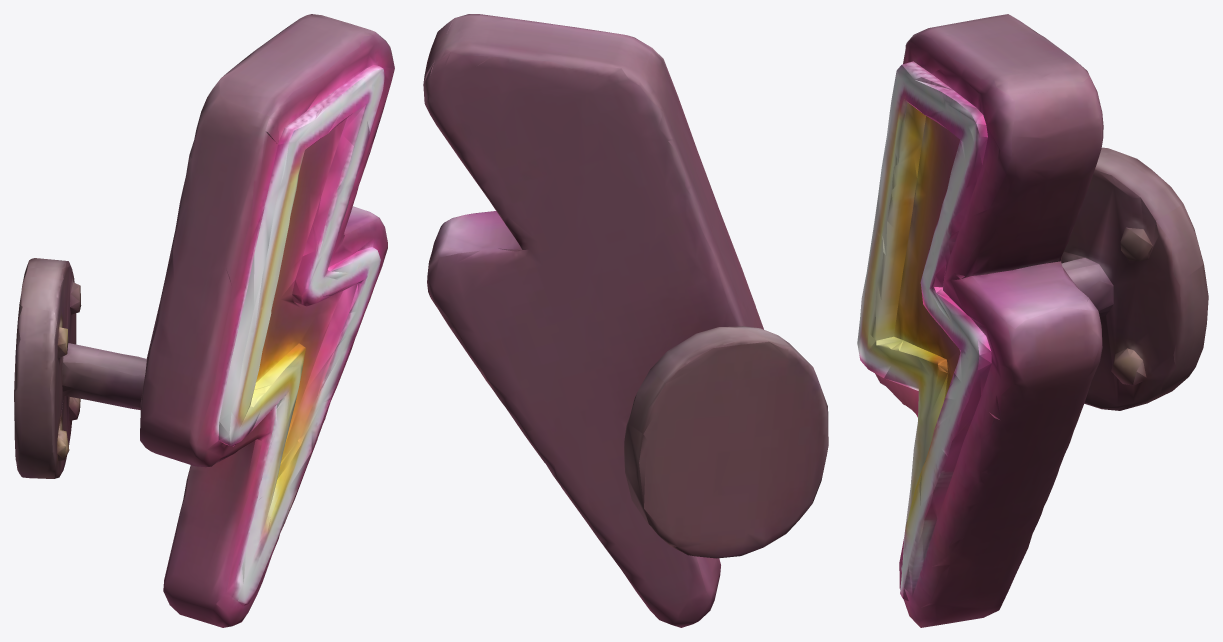
Rendered from wall02.glb.
3 views of the same model, side by side, from view 1: azimuth 30°, elevation 25°; view 2: azimuth 150°, elevation 25°; view 3: azimuth 270°, elevation 25° (orthographic). The views are drawn at different scales.
Size of the model in its own units: 0.184 by 0.2499 by 0.1237.
1 material, 1 textured.
